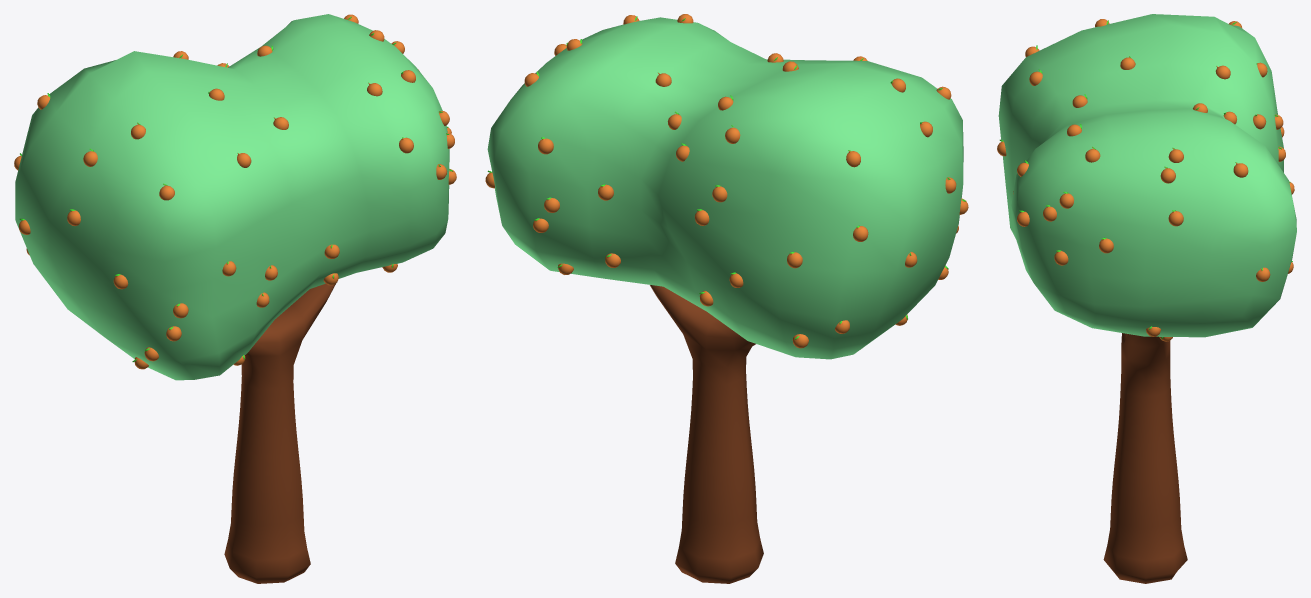
3 views of the same model, side by side, from view 1: azimuth 30°, elevation 25°; view 2: azimuth 150°, elevation 25°; view 3: azimuth 270°, elevation 25° (orthographic). The views are drawn at different scales.
Visible parts, largest first — view 1: Leaves.003, Trunk.006; view 2: Leaves.003, Trunk.006; view 3: Leaves.003, Trunk.006.
Part boxes in pixels (box(x1,y1,x2,y2)): Leaves.003: box(15, 14, 449, 380); Trunk.006: box(224, 283, 335, 583); Leaves.003: box(487, 17, 963, 359); Trunk.006: box(650, 285, 763, 583); Leaves.003: box(998, 14, 1296, 337); Trunk.006: box(1103, 333, 1187, 583).
Size of the model in its own units: 827 by 1519 by 1201.
